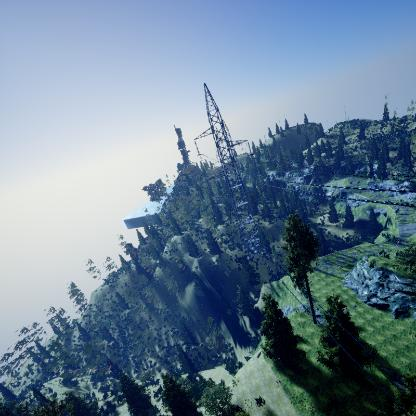tower: (191, 79, 282, 282)
